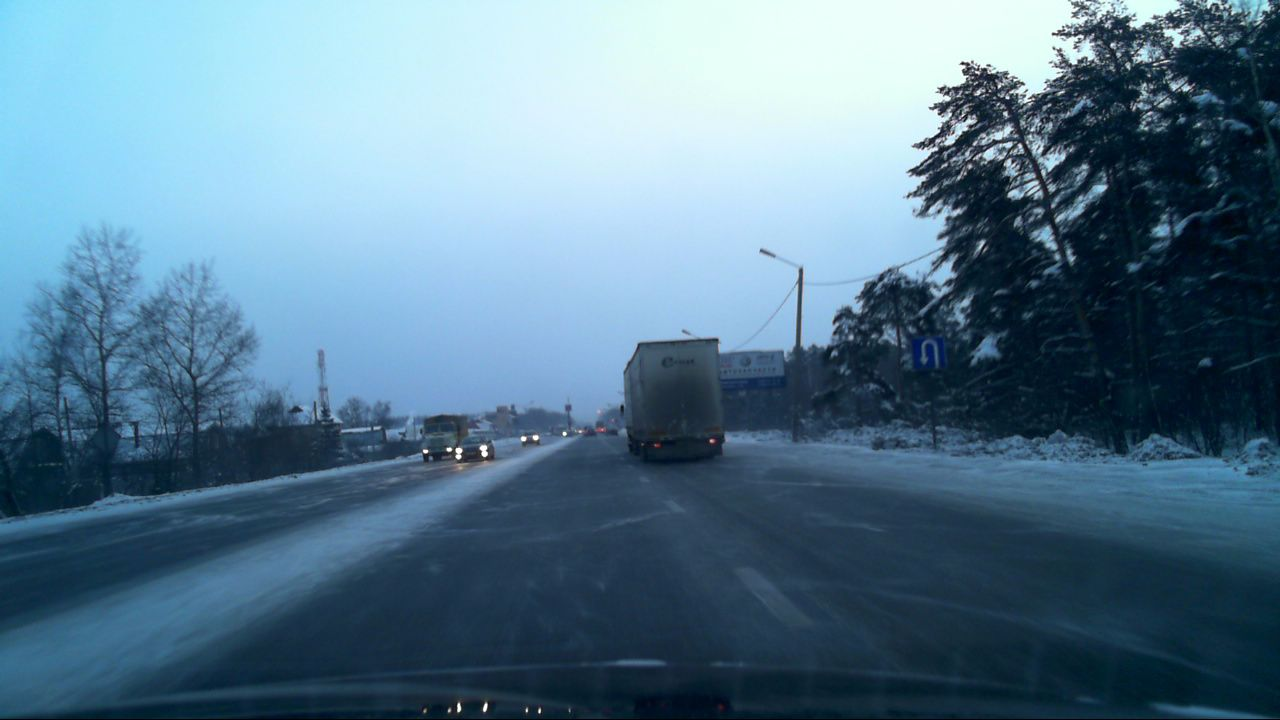U-turn: (912, 336, 945, 370)
